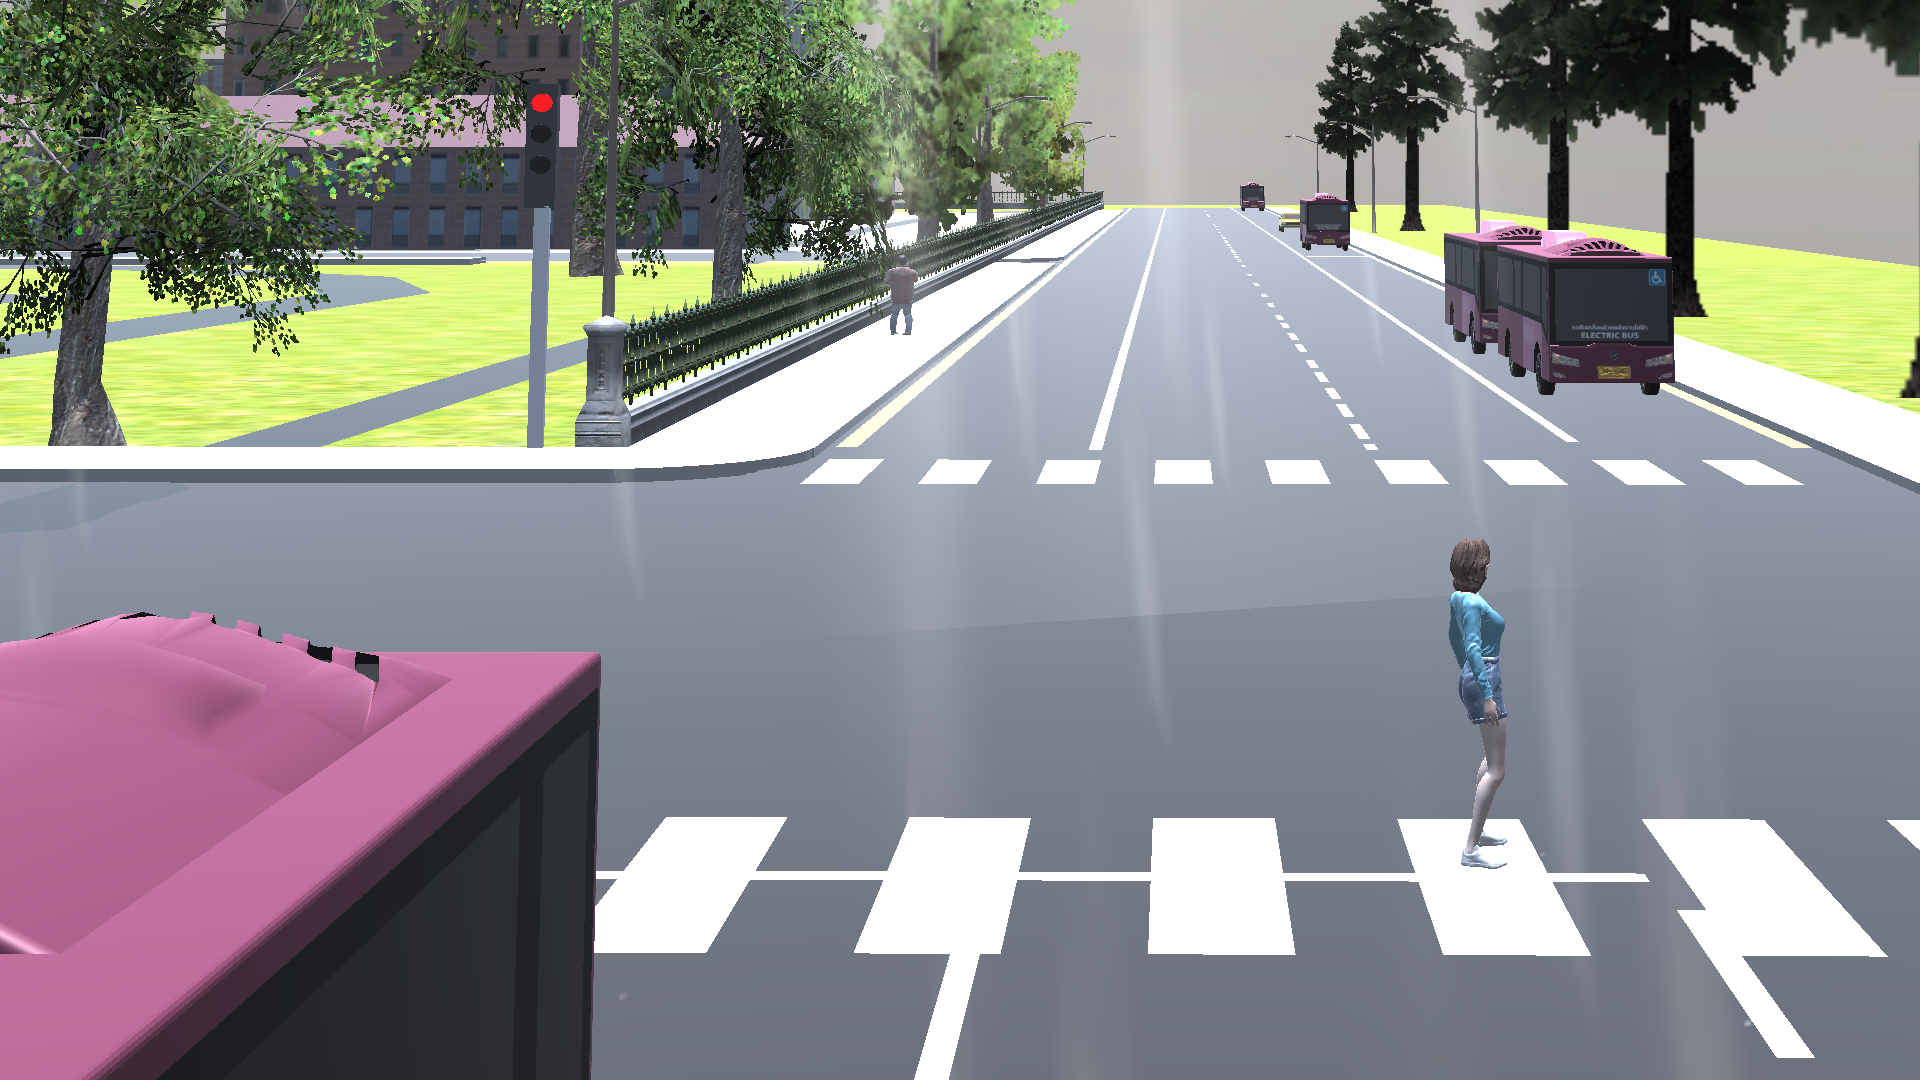pedestrian: (1417, 525, 1551, 883), (881, 253, 940, 350)
